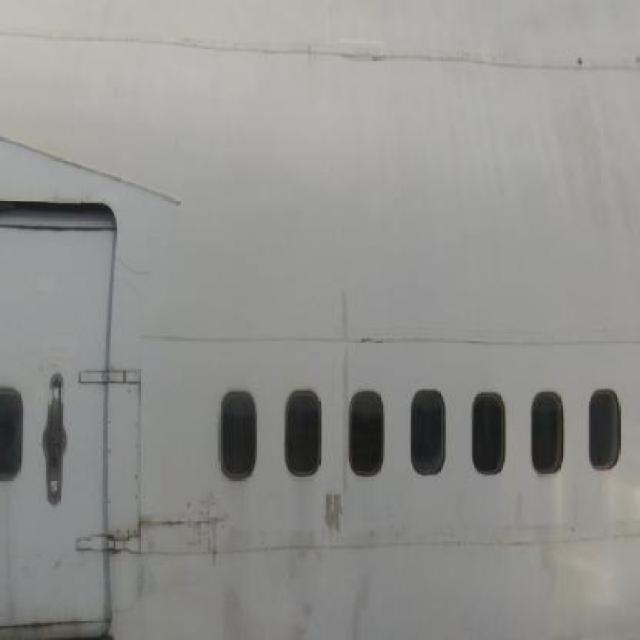Scartch: (178, 470, 230, 561), (333, 281, 352, 490), (318, 482, 362, 549)
